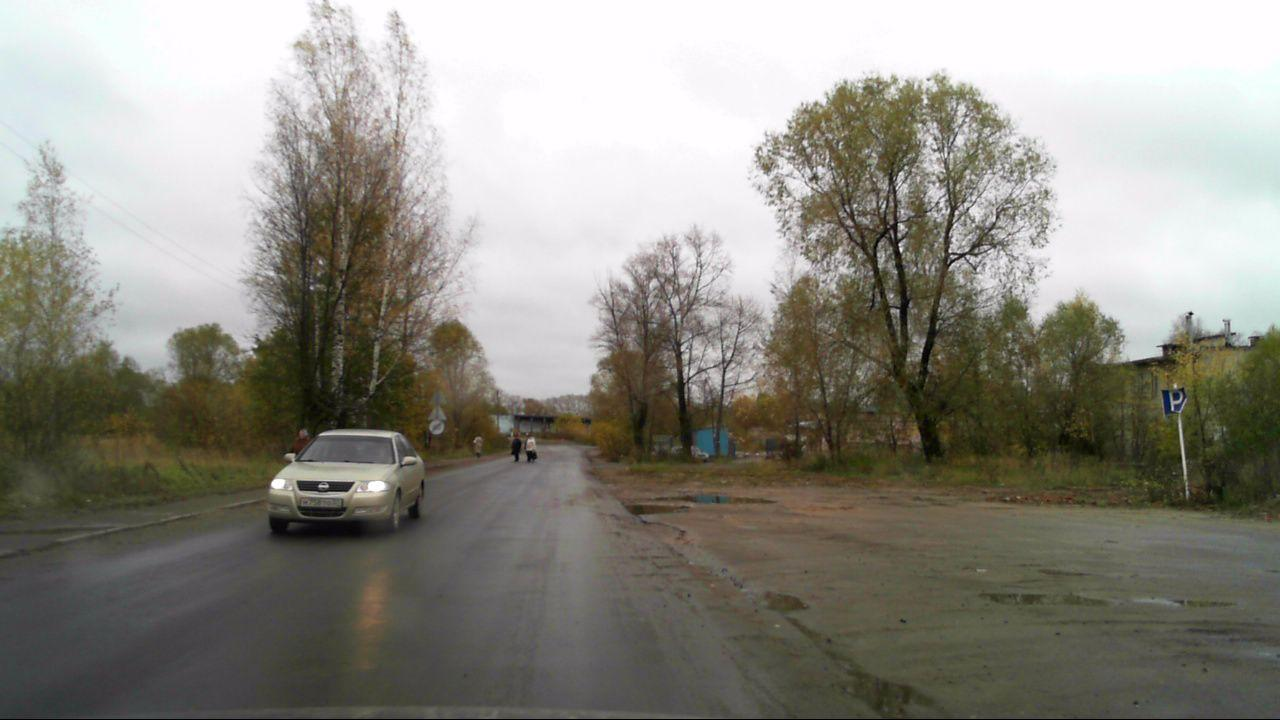6_4: (1161, 386, 1189, 415)
